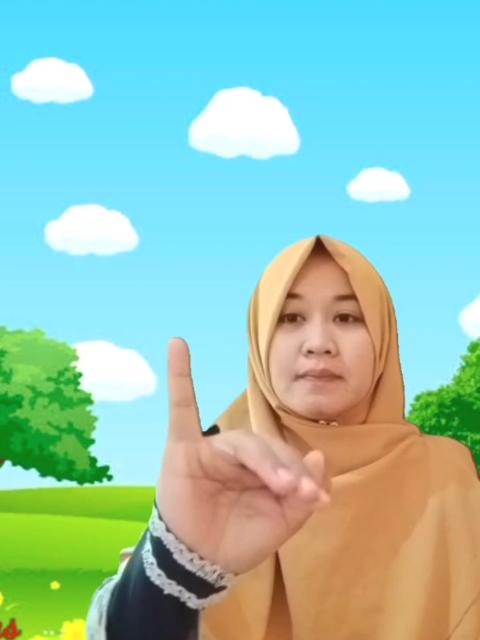I: (157, 336, 333, 572)
